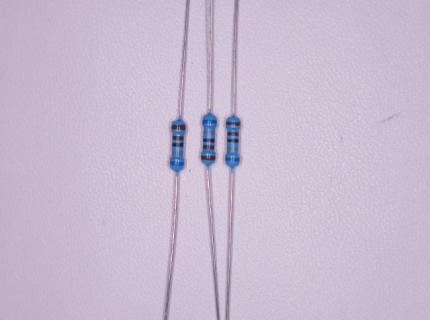Black band: (227, 138, 239, 143), (172, 142, 184, 147), (203, 138, 214, 142)
Blue band: (170, 161, 185, 166), (202, 119, 217, 124), (225, 157, 240, 162)
Brown band: (171, 124, 186, 130), (201, 155, 215, 161), (172, 135, 184, 141), (226, 121, 240, 126), (203, 145, 215, 150), (227, 132, 239, 136)
Grey band: (172, 151, 183, 155), (204, 130, 215, 134), (227, 147, 238, 151)
